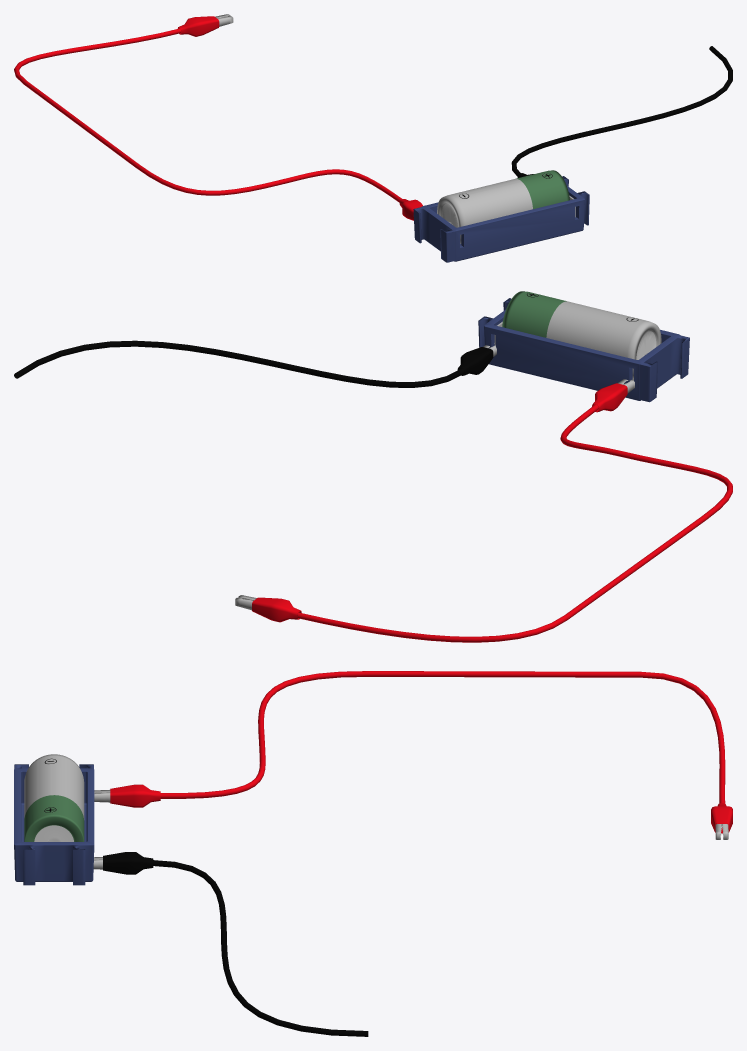
File: Battery1.glb
The picture shows the model from 3 angles, top to bottom: view 1: azimuth 30°, elevation 25°; view 2: azimuth 150°, elevation 25°; view 3: azimuth 270°, elevation 25°; orthographic projection. The views are drawn at different scales.
Parts seen in each view (by area): view 1: Battery.001, pCube10, BézierCurve.001; view 2: Battery.001, pCube10, BézierCurve.001, pCube9; view 3: Battery.001, pCube10, BézierCurve.001, pCube9.
Boxes of the visible parts, x1=… form: Battery.001: x1=413, y1=170, x2=589, y2=262; pCube10: x1=14, y1=14, x2=422, y2=220; BézierCurve.001: x1=511, y1=46, x2=732, y2=176; Battery.001: x1=478, y1=291, x2=689, y2=402; pCube10: x1=235, y1=379, x2=732, y2=642; BézierCurve.001: x1=14, y1=340, x2=464, y2=387; pCube9: x1=457, y1=343, x2=496, y2=375; Battery.001: x1=14, y1=754, x2=94, y2=885; pCube10: x1=94, y1=671, x2=732, y2=839; BézierCurve.001: x1=153, y1=860, x2=368, y2=1036; pCube9: x1=93, y1=852, x2=153, y2=874.
Size of the model in its own units: 8.01 by 0.6655 by 7.23.
Materials: 12 (1 with a texture image).
